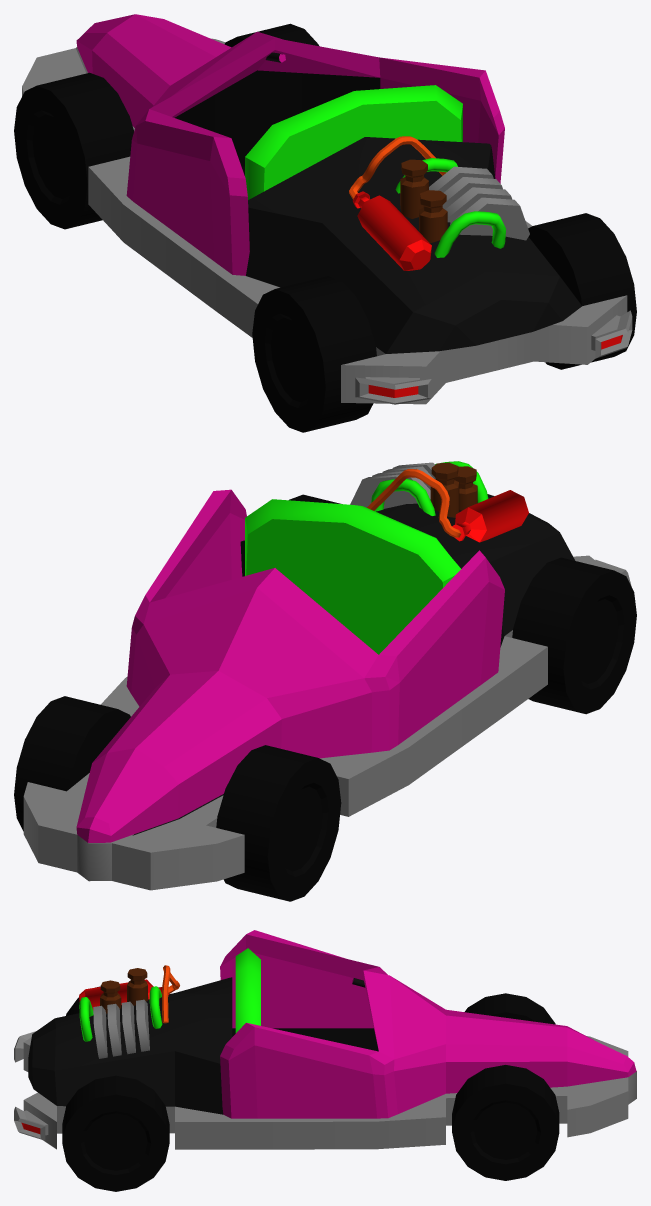
File: car-parsche-sport-green_1.fbx
3 views of the same model, one above another, from view 1: azimuth 30°, elevation 25°; view 2: azimuth 150°, elevation 25°; view 3: azimuth 270°, elevation 25° (orthographic). The views are drawn at different scales.
Parts seen in each view (by area): view 1: car-parsche-sport-green_1, wheel_3, wheel_1, wheel_4, wheel_2; view 2: car-parsche-sport-green_1, wheel_1, wheel_3, wheel_2; view 3: car-parsche-sport-green_1, wheel_4, wheel_2, wheel_1.
Part boxes in pixels (x1=…): car-parsche-sport-green_1: x1=22, y1=14, x2=632, y2=404; wheel_3: x1=252, y1=276, x2=376, y2=432; wheel_1: x1=14, y1=72, x2=133, y2=229; wheel_4: x1=528, y1=213, x2=636, y2=369; wheel_2: x1=224, y1=23, x2=319, y2=47; car-parsche-sport-green_1: x1=23, y1=461, x2=631, y2=890; wheel_1: x1=216, y1=745, x2=341, y2=901; wheel_3: x1=512, y1=557, x2=636, y2=714; wheel_2: x1=14, y1=696, x2=130, y2=831; car-parsche-sport-green_1: x1=14, y1=930, x2=636, y2=1149; wheel_4: x1=62, y1=1075, x2=169, y2=1191; wheel_2: x1=452, y1=1065, x2=559, y2=1180; wheel_1: x1=464, y1=993, x2=555, y2=1024.
Bounding box in the file's own units: 1.03 × 2.45 × 0.7376.
